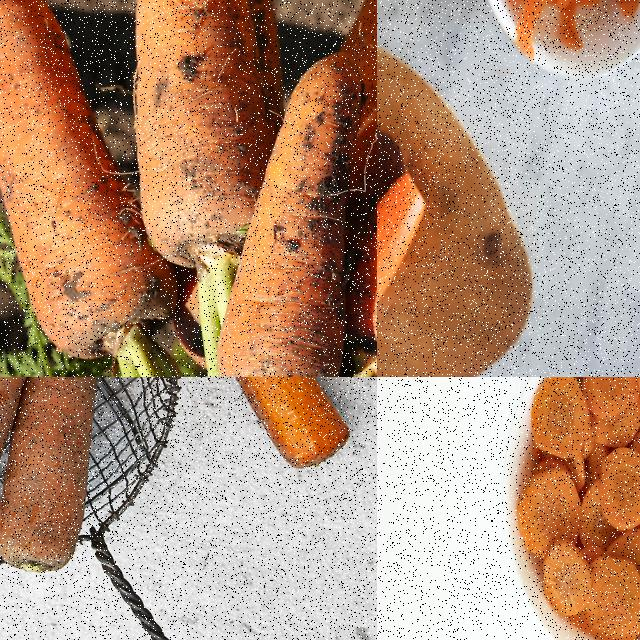carrot: (0, 0, 189, 366), (213, 46, 372, 376), (133, 0, 270, 274), (517, 377, 639, 639), (0, 377, 102, 574), (207, 377, 351, 468), (377, 166, 429, 353), (343, 0, 376, 248)
